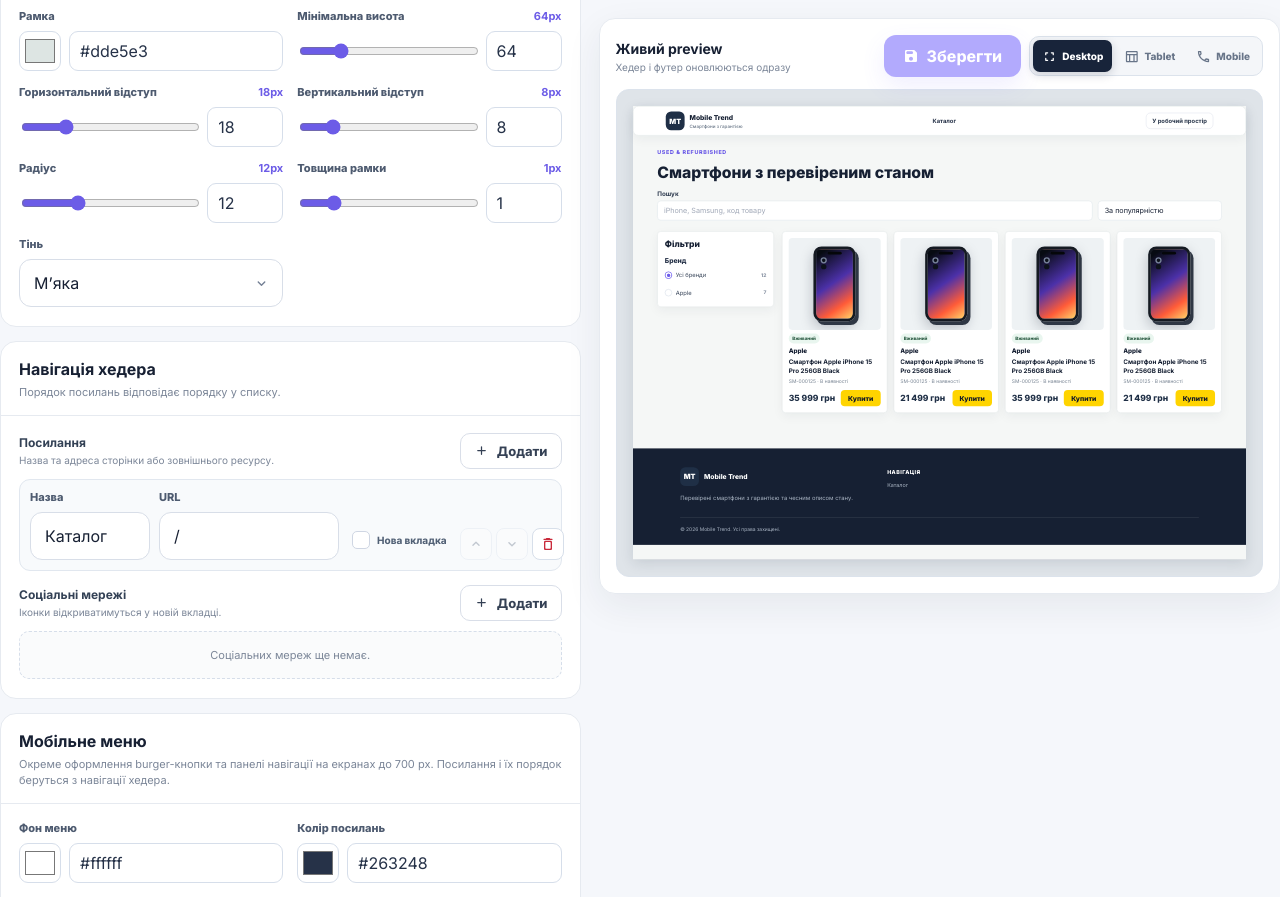
Test case: CatalogHeaderFooterSettingsPage › loads the shared theme and adds a header navigation link
This screenshot has width=1280, height=897.
(page scrolled)
Expected: the heading "Мобільне меню" is shown, [19, 731, 146, 751]
Expected: the element "Навігація хедера" is shown, [0, 341, 580, 699]
Click the 1st button "Додати".
click(511, 451)  # box [460, 433, 562, 469]
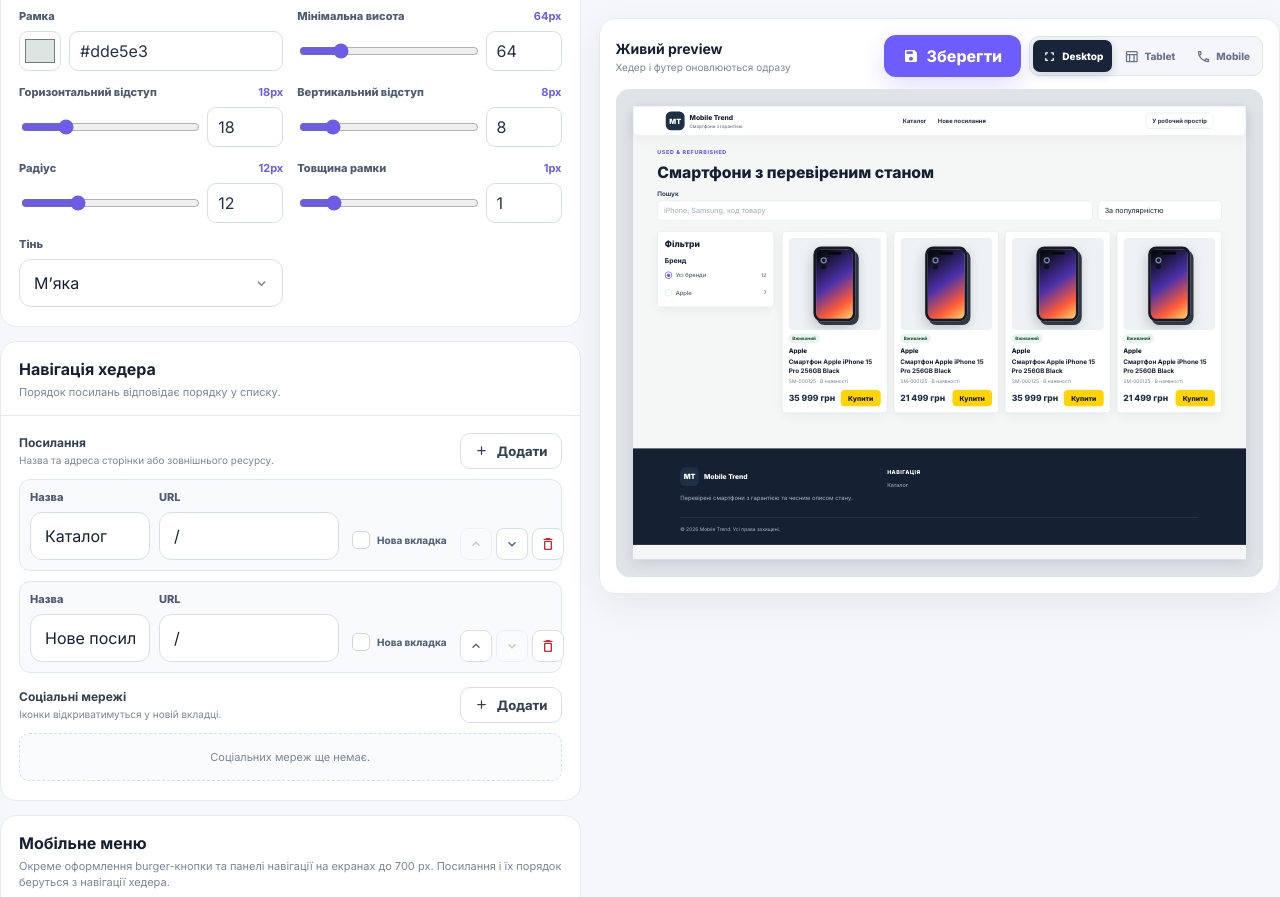
Expected: the 2nd field showing "Нове посилання" is shown, [30, 614, 150, 662]
